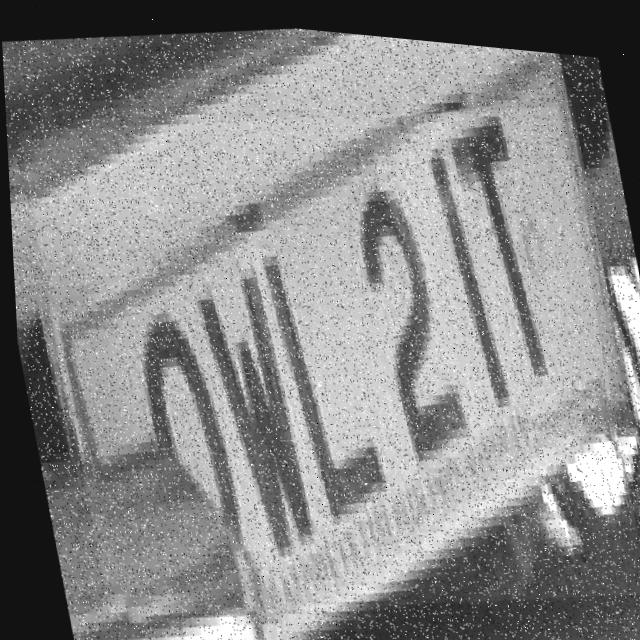LicensePlate: (14, 55, 640, 640)
